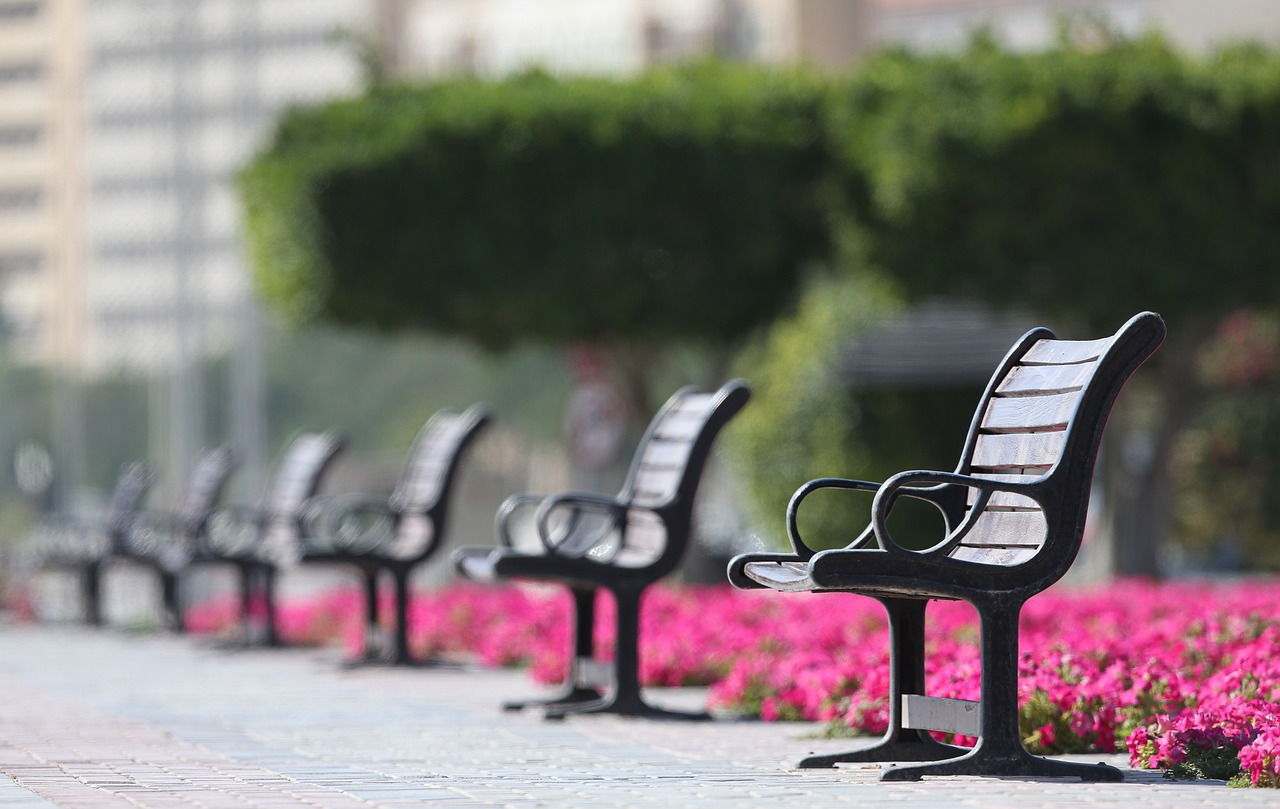Chair: (716, 315, 1200, 798), (451, 355, 747, 743), (303, 404, 495, 681)
